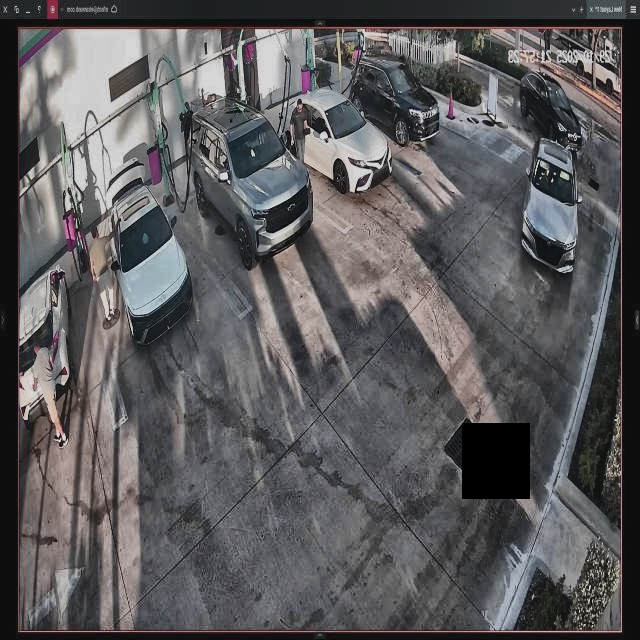Car: (190, 101, 311, 268), (104, 157, 190, 348), (295, 86, 390, 195), (352, 59, 438, 144)
